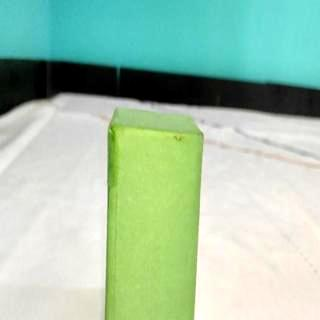greenbox: (106, 101, 206, 320)
